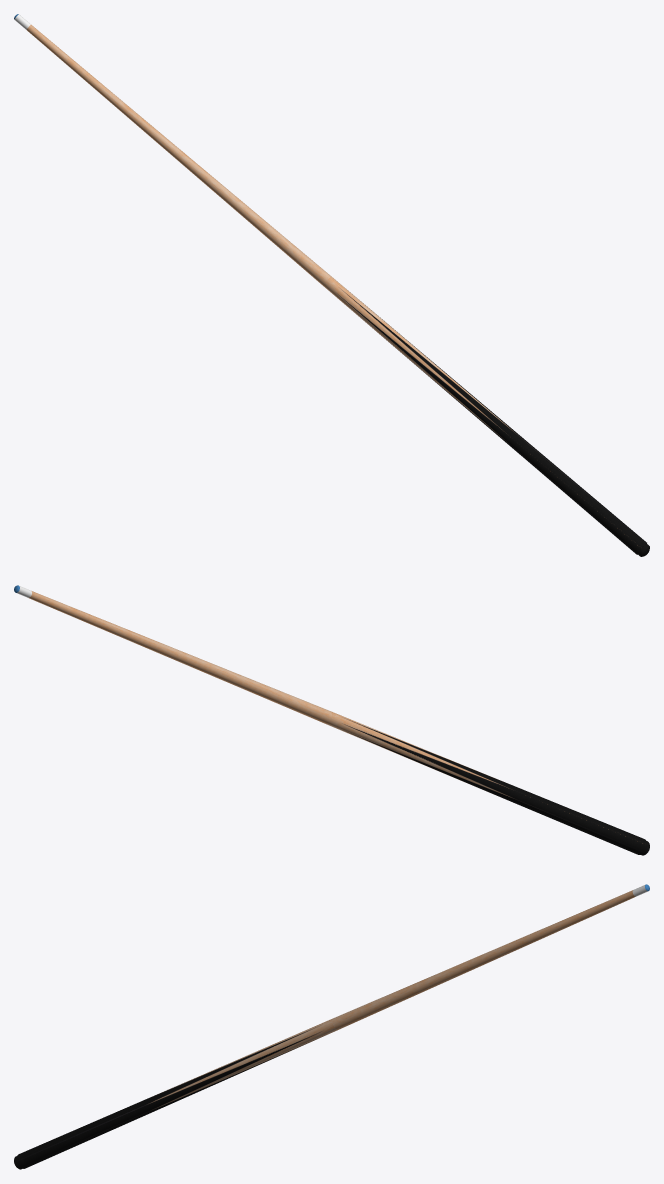
The model's file is taco.glb.
The picture shows the model from 3 angles, top to bottom: view 1: azimuth 90°, elevation 25°; view 2: azimuth 150°, elevation 25°; view 3: azimuth 270°, elevation 25°; orthographic projection. The views are drawn at different scales.
Parts seen in each view (by area): view 1: CueStick; view 2: CueStick; view 3: CueStick.
Boxes of the visible parts, bbox=[...] form: CueStick: bbox=[14, 14, 649, 556]; CueStick: bbox=[14, 585, 649, 855]; CueStick: bbox=[14, 884, 649, 1169].
Bounding box in the file's own units: 0.5442 × 0.7825 × 1.09.
Materials: 1 (1 with a texture image).
